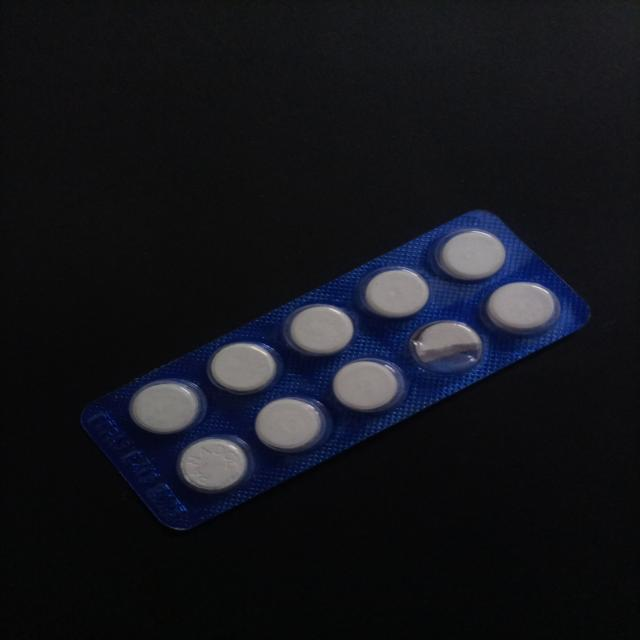defect: (406, 318, 486, 377)
